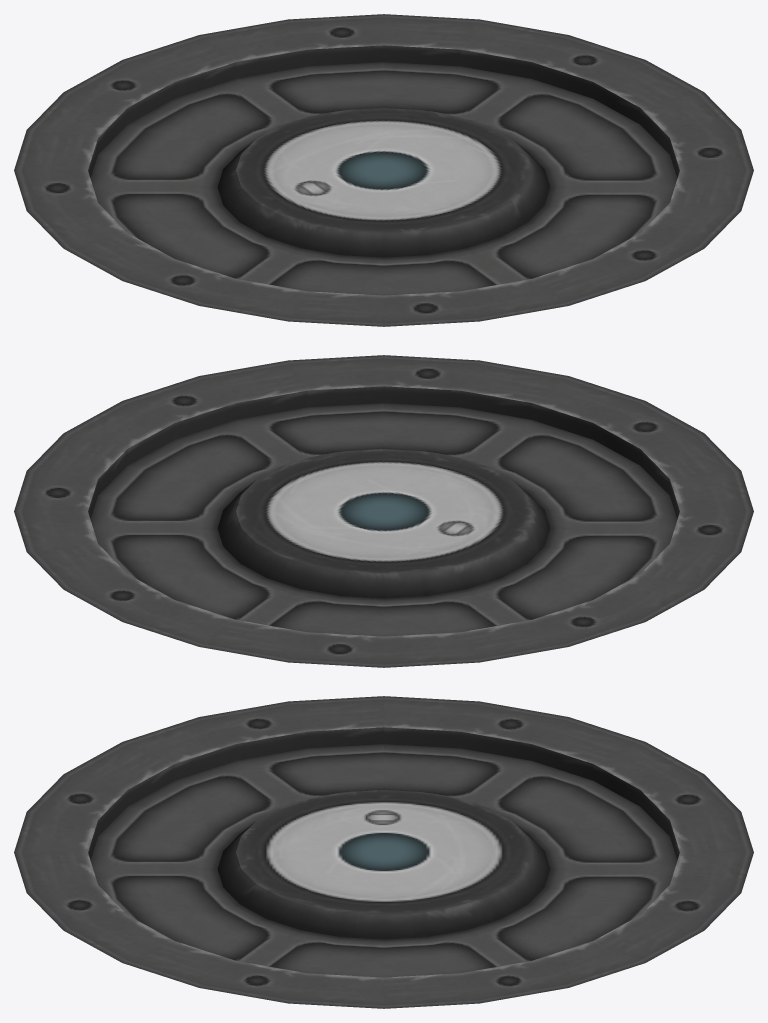
File: end_crew_s1.obj
3 views of the same model, one above another, from view 1: azimuth 30°, elevation 25°; view 2: azimuth 150°, elevation 25°; view 3: azimuth 270°, elevation 25° (orthographic).
Visible parts, largest first — view 1: end; view 2: end; view 3: end.
Boxes of the visible parts, x1,y1,x2,y2 form: end: (14,14,753,326); end: (14,355,753,667); end: (14,696,753,1008).
Bounding box in the file's own units: 1.25 × 0.0312 × 1.25.
